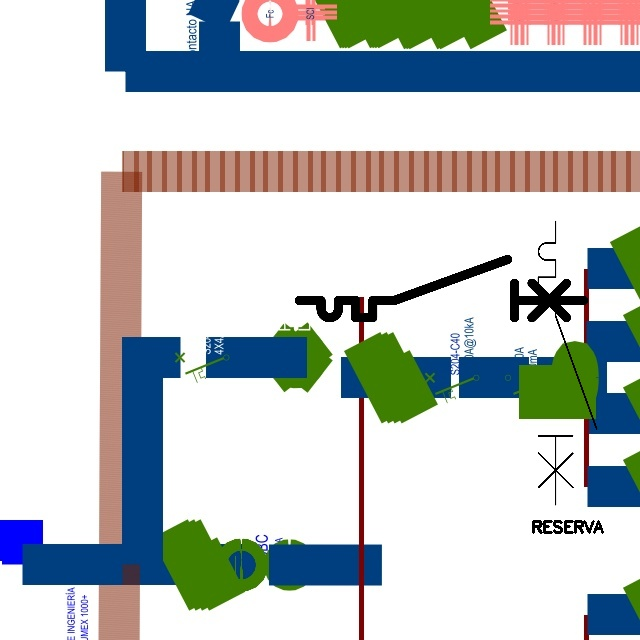interruptor_termomagnetico: (292, 252, 591, 325), (531, 214, 604, 512)
